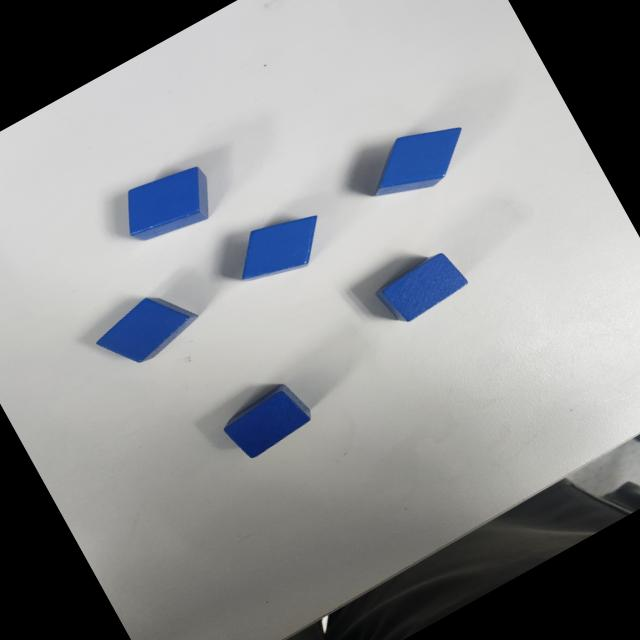blue: (356, 108, 481, 214), (88, 280, 207, 380), (110, 154, 224, 256), (224, 200, 336, 296), (218, 378, 318, 465), (372, 246, 471, 330)
